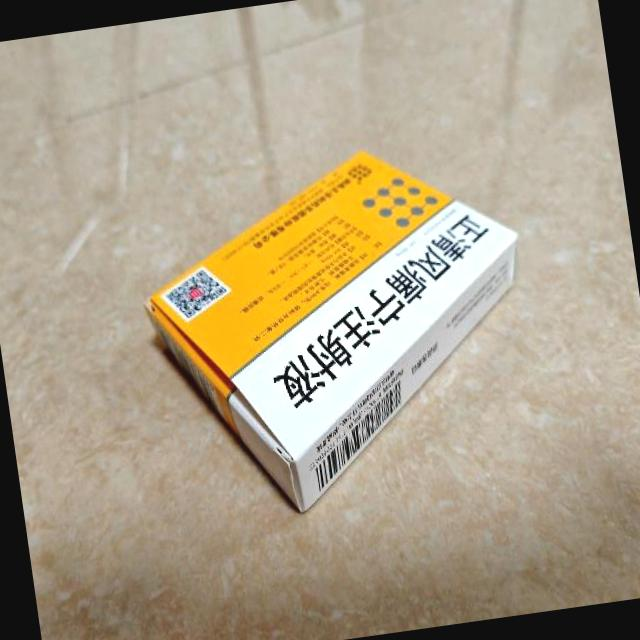box: (127, 128, 554, 530)
